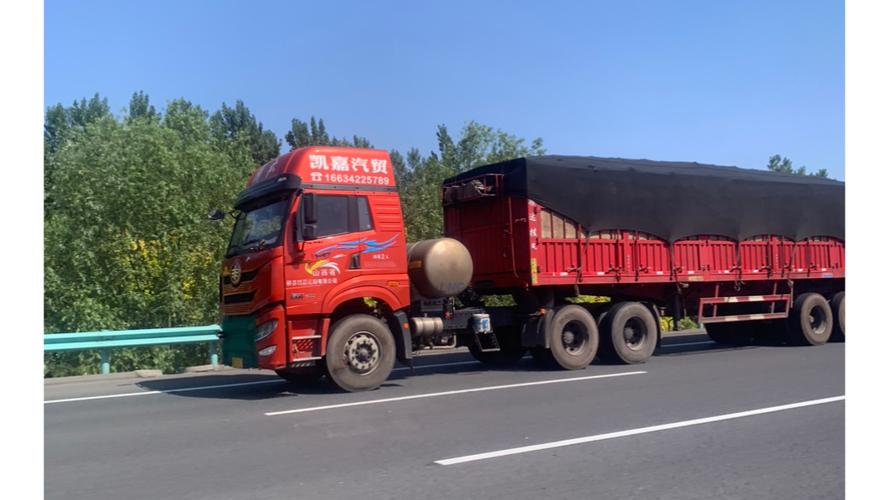卡车: (210, 147, 849, 392)
